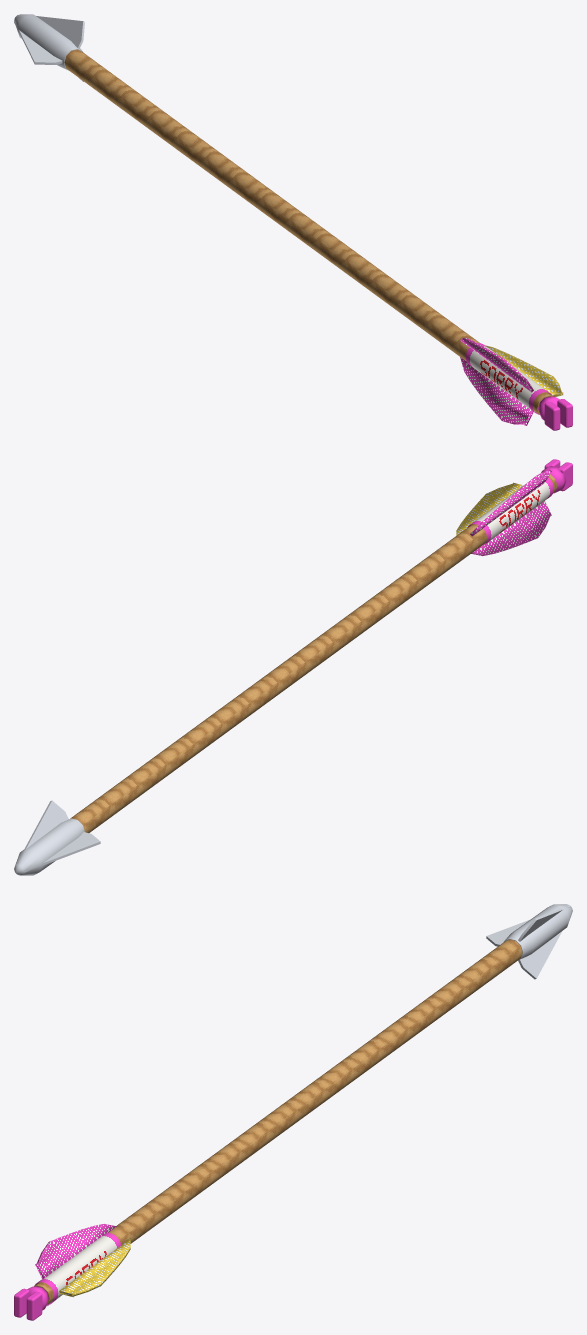
Rendered from pj_bow.glb.
3 renders of one model, top to bottom at view 1: azimuth 30°, elevation 25°; view 2: azimuth 150°, elevation 25°; view 3: azimuth 330°, elevation 25°, orthographic.
Visible parts, largest first — view 1: arrow_body_wzA, arrow_body_wzN, arrowhead_wzN; view 2: arrow_body_wzA, arrow_body_wzN, arrowhead_wzN; view 3: arrow_body_wzA, arrow_body_wzN, arrowhead_wzN.
Part boxes in pixels (left/top/right/bottom): arrow_body_wzA: left=64, top=49, right=552, bottom=414; arrow_body_wzN: left=460, top=337, right=572, bottom=430; arrowhead_wzN: left=14, top=14, right=84, bottom=81; arrow_body_wzA: left=70, top=474, right=557, bottom=832; arrow_body_wzN: left=456, top=459, right=572, bottom=556; arrowhead_wzN: left=14, top=800, right=100, bottom=875; arrow_body_wzA: left=34, top=939, right=522, bottom=1304; arrow_body_wzN: left=14, top=1223, right=130, bottom=1320; arrowhead_wzN: left=486, top=904, right=572, bottom=979.
Bounding box in the file's own units: 0.0691 × 0.0622 × 0.98.
Materials: 6 (4 with a texture image).
